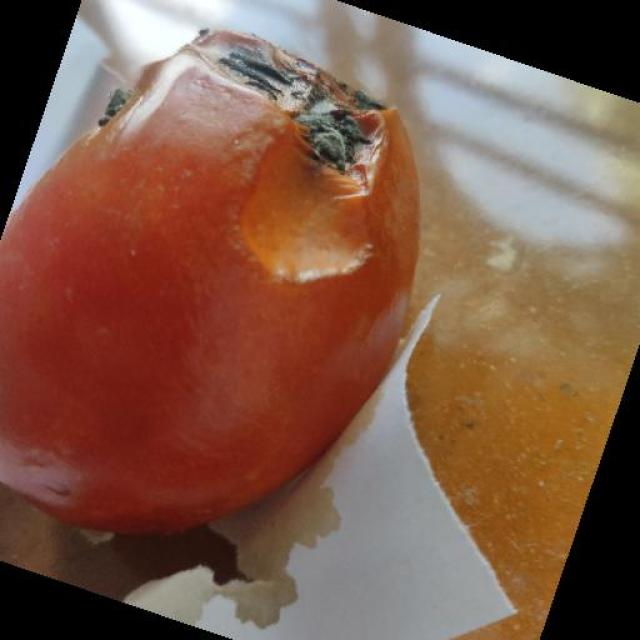Stale_tomato: (29, 25, 410, 610)
